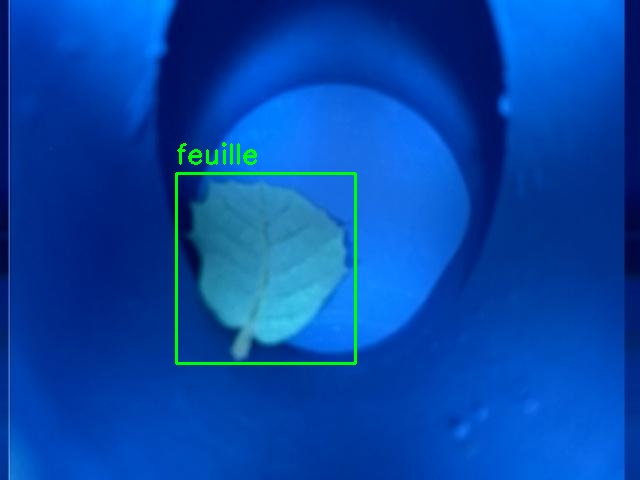feuille: (176, 173, 355, 363)
